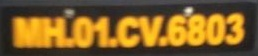character: (139, 15, 162, 47), (42, 17, 65, 48), (117, 15, 139, 47), (73, 16, 92, 48), (206, 14, 225, 46), (168, 14, 186, 46), (186, 14, 204, 46), (226, 12, 244, 44), (93, 16, 109, 48)
